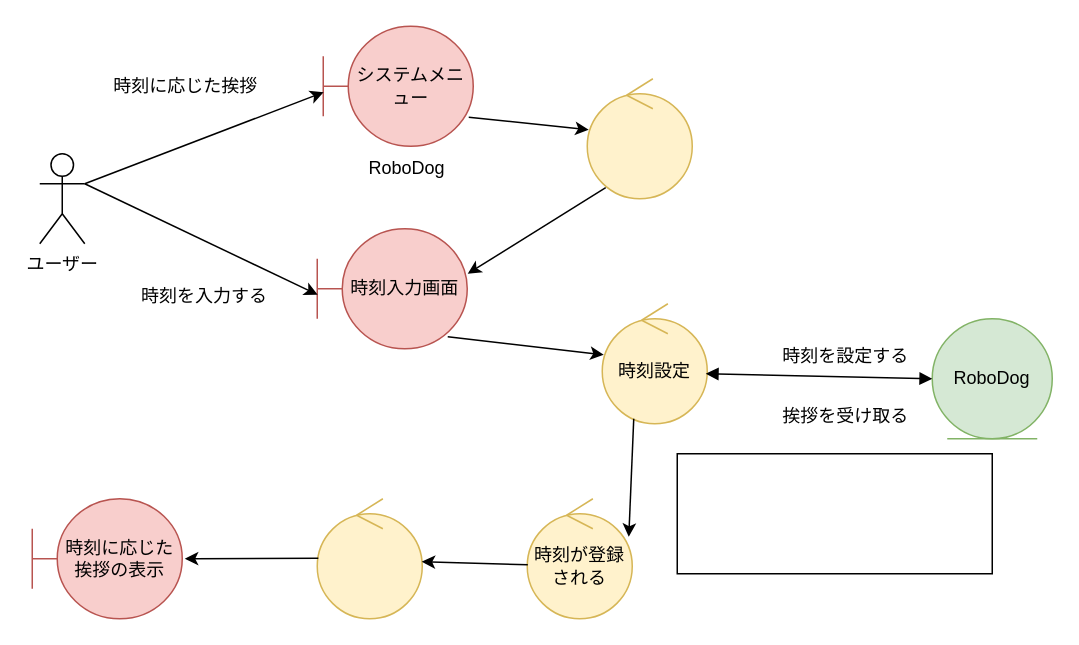
Image size: 1079x645. Some labels were removed from this diagram. The centre of each missing label's shape, as x and y in pixels:
"05:00~11:59 「おはよう」 12:00~17:59 「こんにちは」 18:00~21:59 「こんばんわ」 22:00~4:59 「おやすみ」" goes at point 834,513.
"登録時刻の表示" goes at point 369,558.
"表示" goes at point 639,138.
